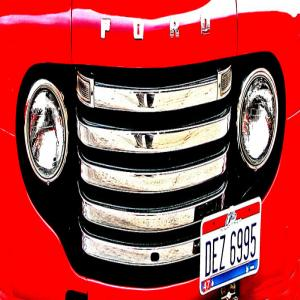Vehicle-registration-plate: (202, 206, 263, 280)
